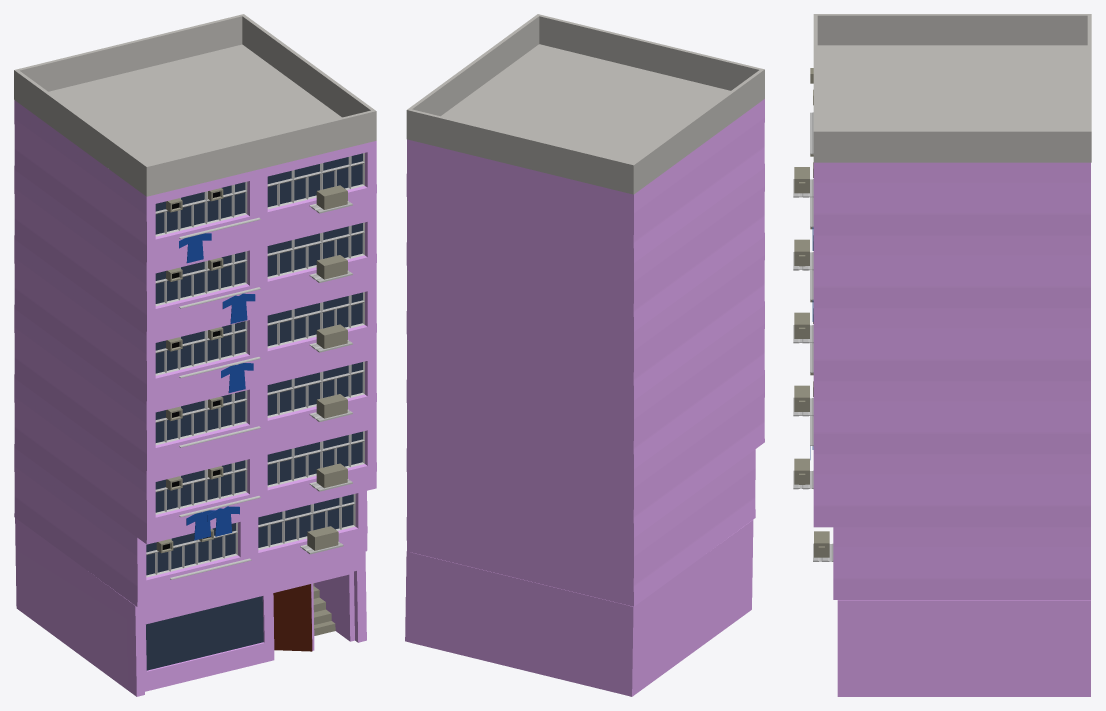
The model's file is B_Old1.fbx.
3 views of the same model, side by side, from view 1: azimuth 30°, elevation 25°; view 2: azimuth 150°, elevation 25°; view 3: azimuth 270°, elevation 25° (orthographic). The views are drawn at different scales.
Parts seen in each view (by area): view 1: B.Old1_LOD0; view 2: B.Old1_LOD0; view 3: B.Old1_LOD0.
Boxes of the visible parts, bbox=[...] form: B.Old1_LOD0: bbox=[14, 14, 376, 696]; B.Old1_LOD0: bbox=[405, 14, 764, 696]; B.Old1_LOD0: bbox=[793, 14, 1091, 696].
Size of what is drawn, in the model's own units: 44.48 by 98.81 by 47.32.
